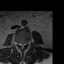CCS_normal: (21, 41, 23, 50)
LFS_normal: (25, 40, 27, 46)
LLS_stenosis: (23, 41, 25, 48)
RFS_normal: (17, 41, 19, 47)
RLS_normal: (19, 41, 21, 48)
